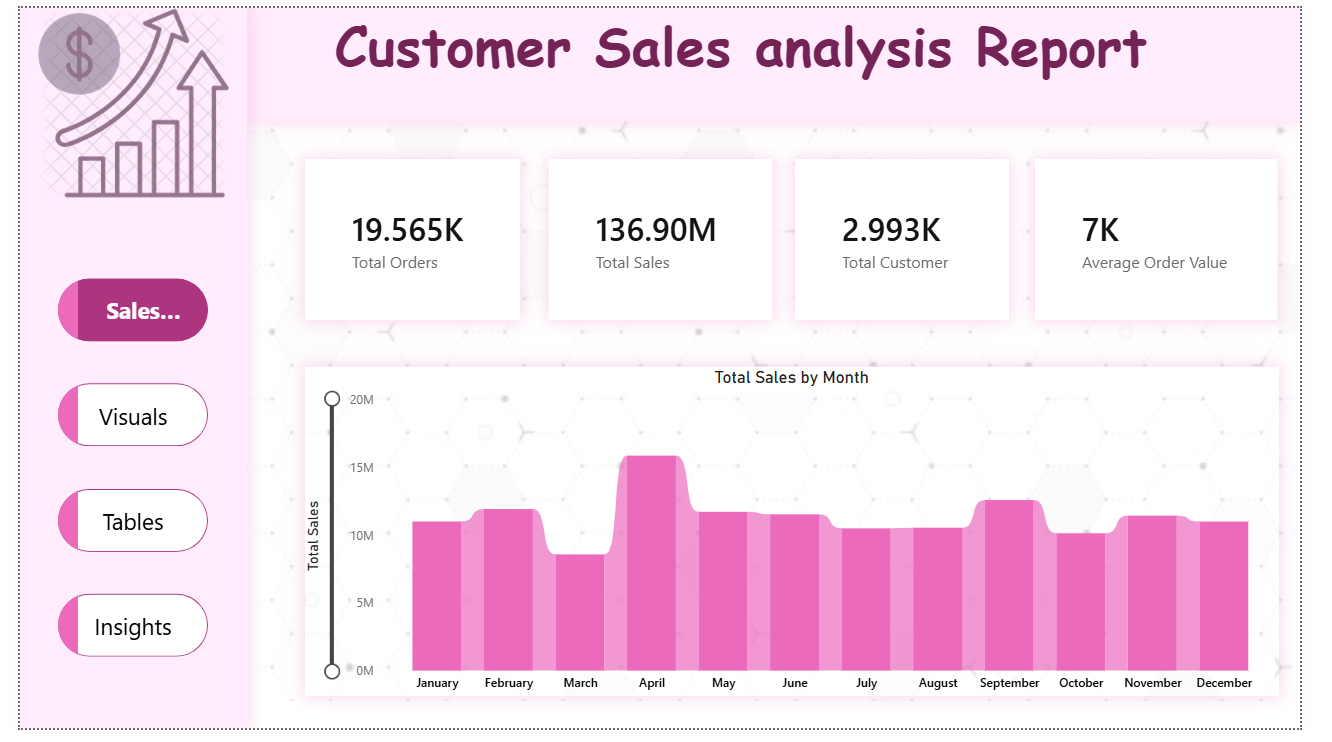

The dashboard page shown, as its layout file describes it:
{"tool":"powerbi","page":{"name":"Sales overview","canvas":[1280,720],"ordinal":0},"visuals":[{"type":"cardVisual","fields":{"Data":["Count(OrdersTable.Order_ID)"]},"box":[774.5,151.3,213.7,160.9],"z":0},{"type":"cardVisual","fields":{"Data":["Sum(OrdersTable.Quantity)"]},"box":[284.6,151.3,214.9,160.9],"z":1000},{"type":"cardVisual","fields":{"Data":["Sum(OrdersTable.Total Sales)"]},"box":[528.3,151.3,223.3,160.9],"z":2000},{"type":"textbox","box":[0,0,1280,112.5],"z":3000},{"type":"shape","box":[0,0,227.5,720],"z":4000},{"type":"image","box":[0,0,227.5,190],"z":5000},{"type":"pageNavigator","box":[30,262.5,166.2,395],"z":6000},{"type":"cardVisual","fields":{"Data":["OrdersTable.AOV"]},"box":[1014.6,151.3,242.6,160.9],"z":7000},{"type":"ribbonChart","fields":{"Category":["OrdersTable.Order_Date.Variation.Date Hierarchy.Month"],"Y":["Sum(OrdersTable.Total Sales)"]},"box":[284.9,358.1,973.3,329.1],"z":8001}]}

Visuals, with their boxes in screenshot pixels (x1, y1, x2, y2), scaled from the page's 1280x720 canvas onto the 1332x742 screenshot:
cardVisual - Count(OrdersTable.Order_ID): pyautogui.locateOnScreen(806, 156, 1028, 322)
cardVisual - Sum(OrdersTable.Quantity): pyautogui.locateOnScreen(296, 156, 520, 322)
cardVisual - Sum(OrdersTable.Total Sales): pyautogui.locateOnScreen(550, 156, 782, 322)
textbox: pyautogui.locateOnScreen(0, 0, 1331, 116)
shape: pyautogui.locateOnScreen(0, 0, 237, 741)
image: pyautogui.locateOnScreen(0, 0, 237, 196)
pageNavigator: pyautogui.locateOnScreen(31, 271, 204, 678)
cardVisual - OrdersTable.AOV: pyautogui.locateOnScreen(1056, 156, 1308, 322)
ribbonChart - OrdersTable.Order_Date.Variation.Date Hierarchy.Month x Sum(OrdersTable.Total Sales): pyautogui.locateOnScreen(296, 369, 1309, 708)
